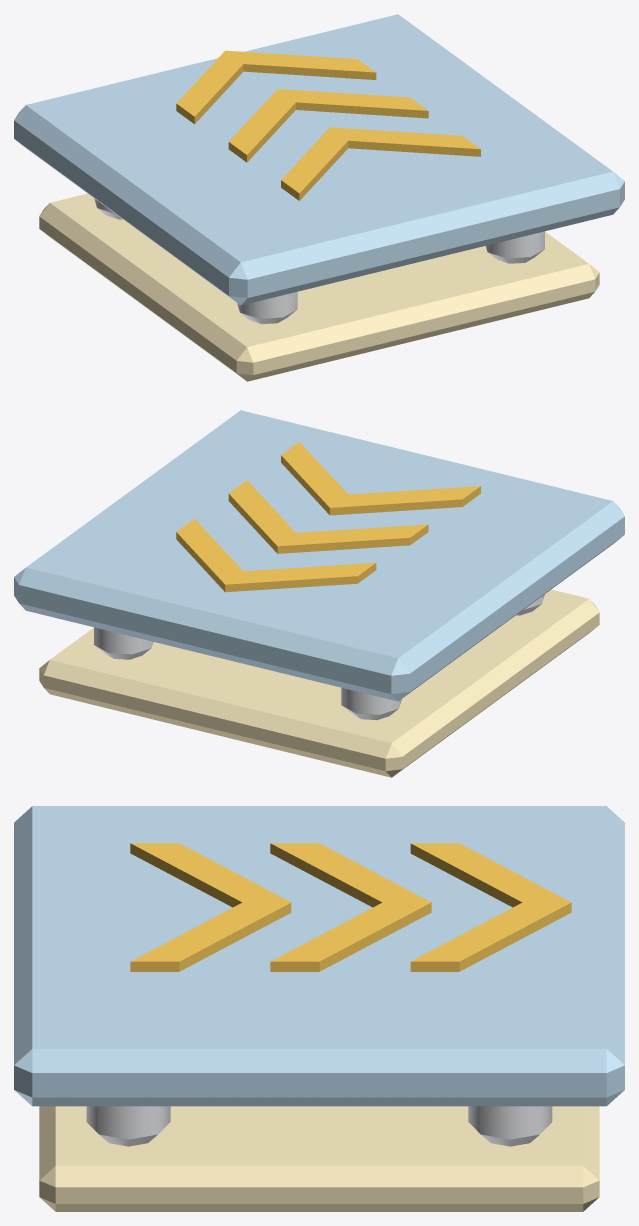
File: R4D_KnockbackTrap_LOD1.glb
The picture shows the model from 3 angles, top to bottom: view 1: azimuth 30°, elevation 25°; view 2: azimuth 150°, elevation 25°; view 3: azimuth 270°, elevation 25°; orthographic projection. The views are drawn at different scales.
Visible parts, largest first — view 1: R4D_KnockbackTrap_LOD1; view 2: R4D_KnockbackTrap_LOD1; view 3: R4D_KnockbackTrap_LOD1.
Boxes of the visible parts, box(x1,y1,x2,y2) form: R4D_KnockbackTrap_LOD1: box(14, 14, 624, 381); R4D_KnockbackTrap_LOD1: box(14, 410, 624, 777); R4D_KnockbackTrap_LOD1: box(14, 806, 624, 1211).
Bounding box in the file's own units: 0.48 × 0.1716 × 0.48.
